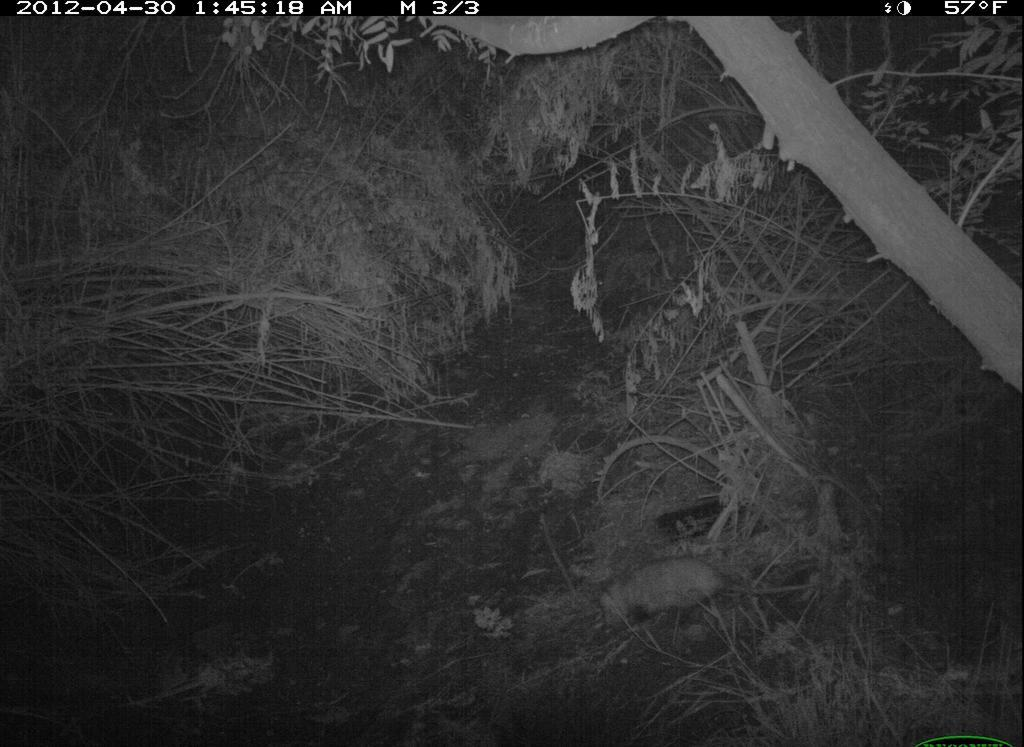opossum: (587, 547, 825, 633)
